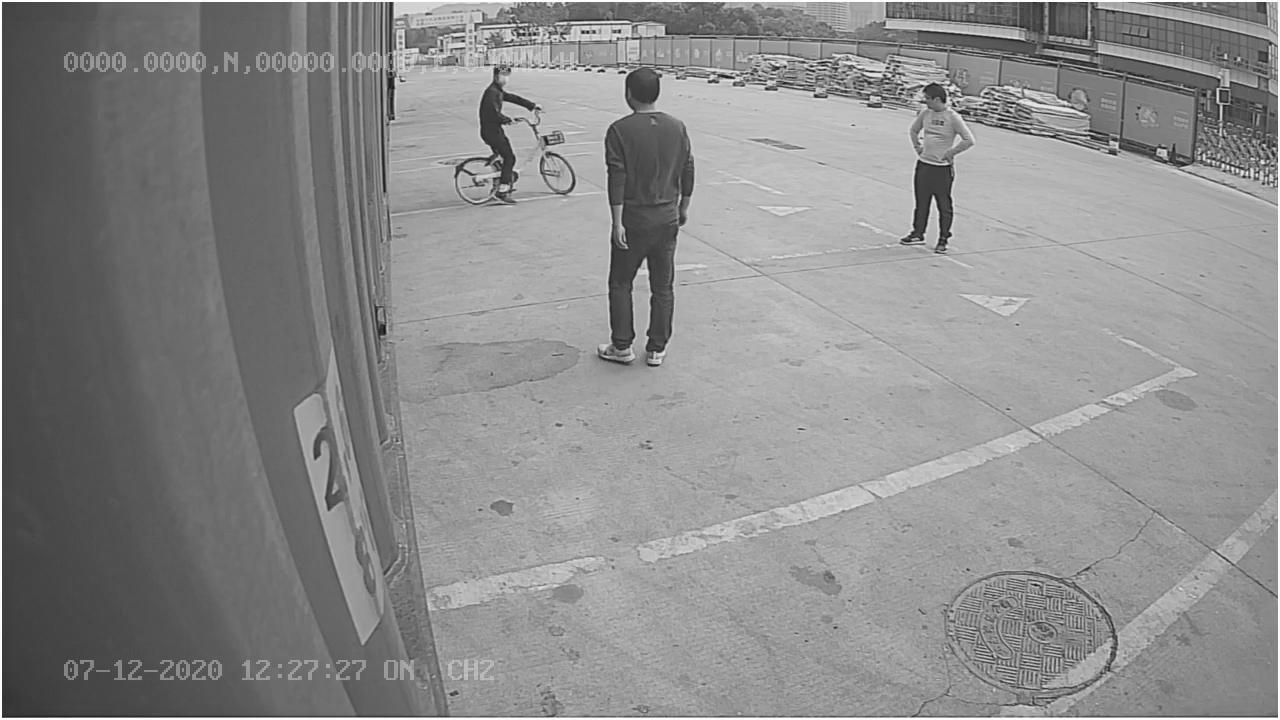person: (588, 67, 701, 371)
